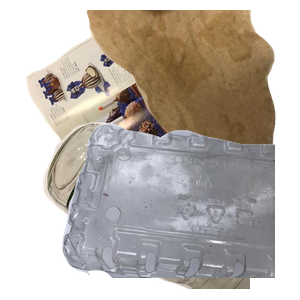glass: (41, 120, 281, 300)
paper: (24, 10, 235, 190)
plastic: (60, 120, 300, 300)
trash: (84, 10, 300, 190)
